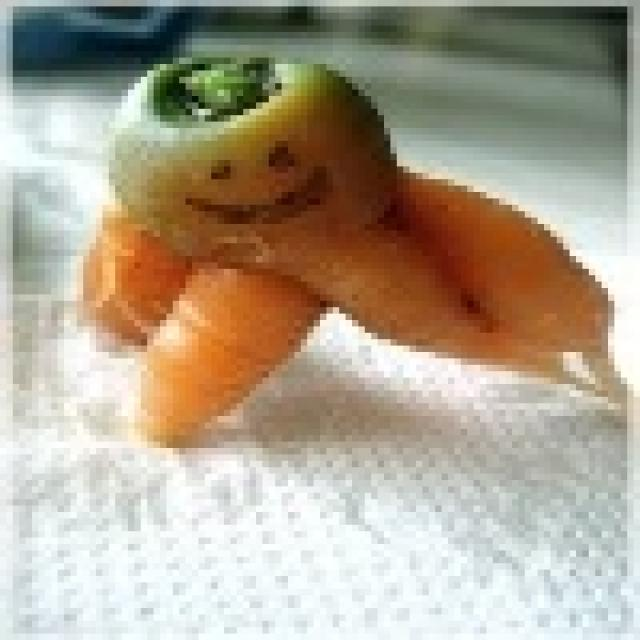Stale_Carrot: (144, 265, 322, 443)
